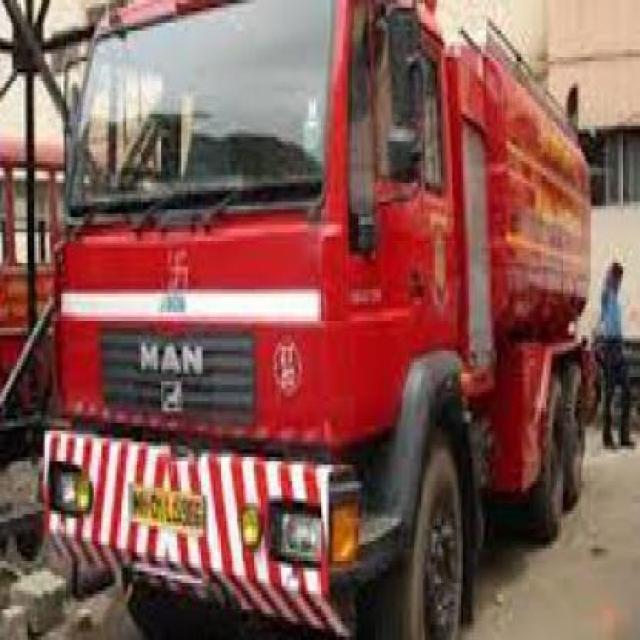Fire Truck: (45, 0, 604, 637)
